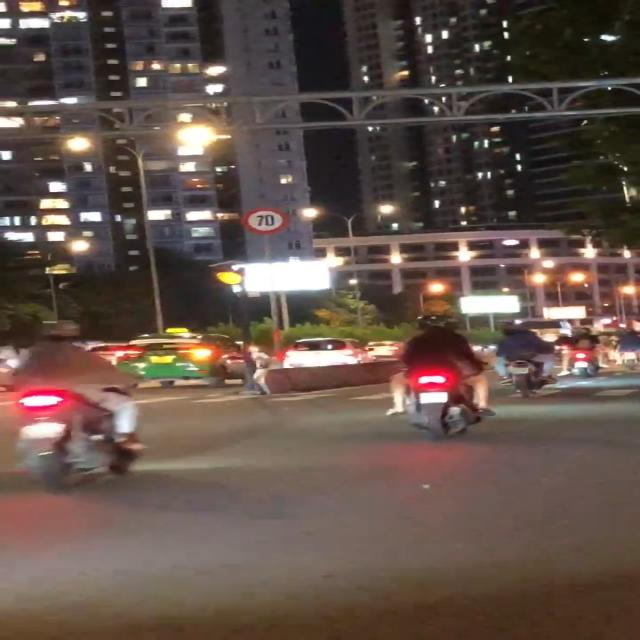Bien bao toc do toi da cho phep: (238, 206, 292, 235)
